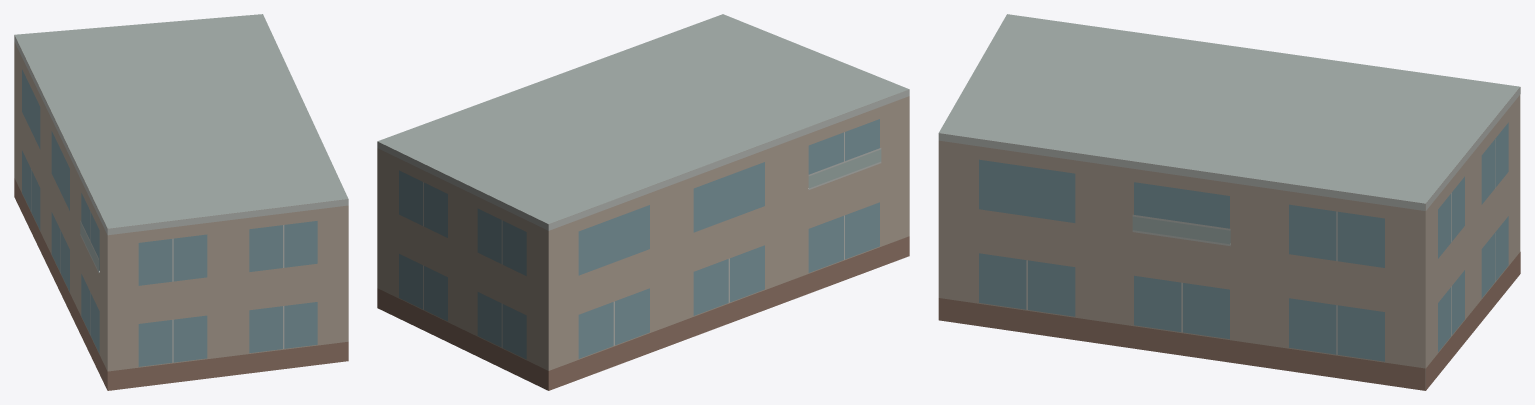
Rendered from survey-upis-32527427.glb.
The picture shows the model from 3 angles, left to right: view 1: azimuth 30°, elevation 25°; view 2: azimuth 150°, elevation 25°; view 3: azimuth 270°, elevation 25°; orthographic projection. The views are drawn at different scales.
Visible parts, largest first — view 1: survey-upis-32527427.tmp; view 2: survey-upis-32527427.tmp; view 3: survey-upis-32527427.tmp.
Part boxes in pixels (x1,y1,x2,y2): survey-upis-32527427.tmp: (14, 14, 348, 390); survey-upis-32527427.tmp: (377, 14, 909, 390); survey-upis-32527427.tmp: (938, 14, 1520, 390).
Size of the model in its own units: 13.27 by 6.1 by 17.2.
